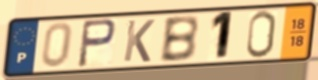0: (38, 21, 75, 70), (245, 9, 278, 61)
1: (208, 10, 234, 63)
B: (158, 13, 201, 64)
K: (121, 18, 157, 64)
P: (75, 18, 118, 70)
